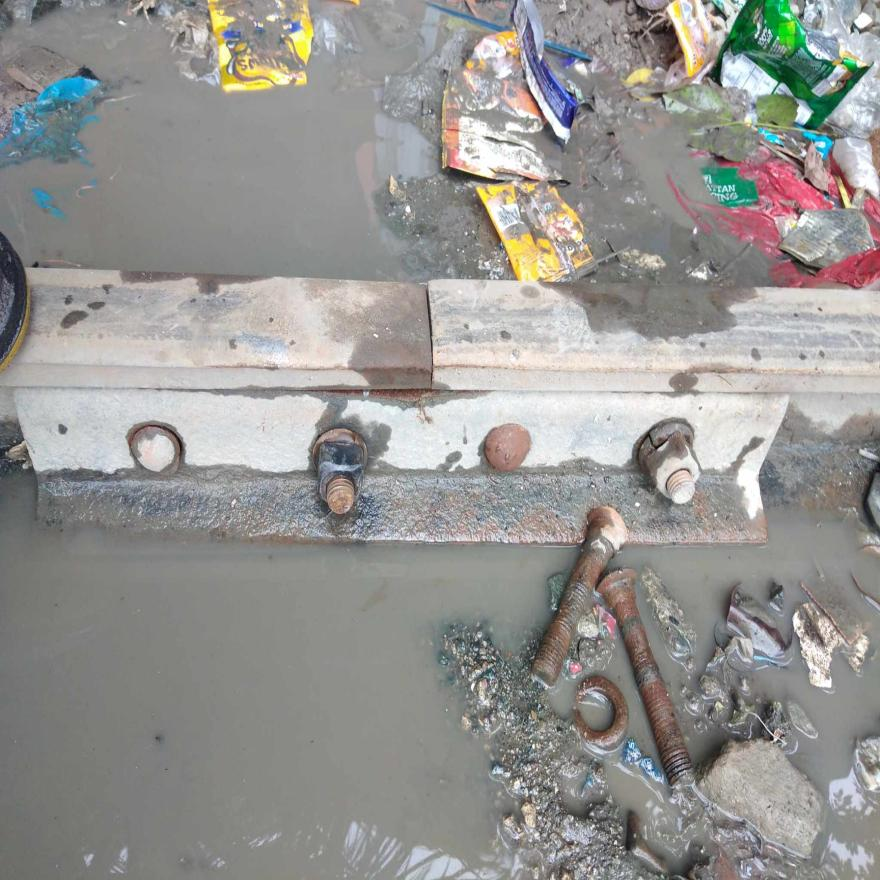railway-gap: (354, 251, 504, 415)
